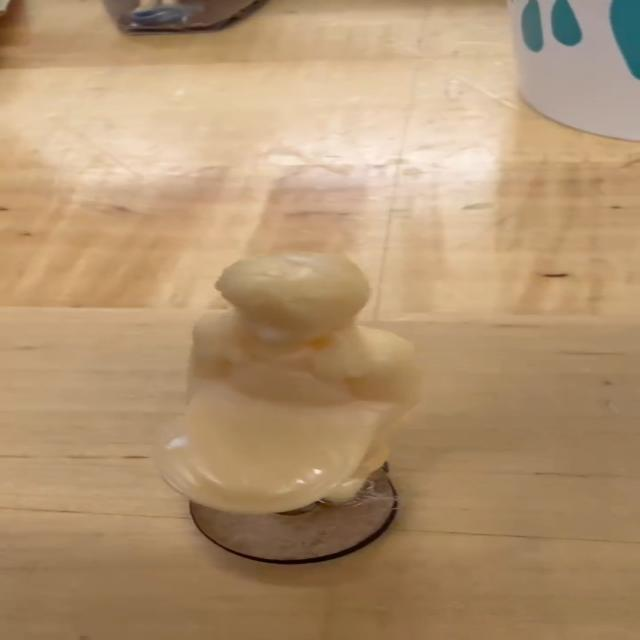Unauthorized: (136, 222, 454, 560)
